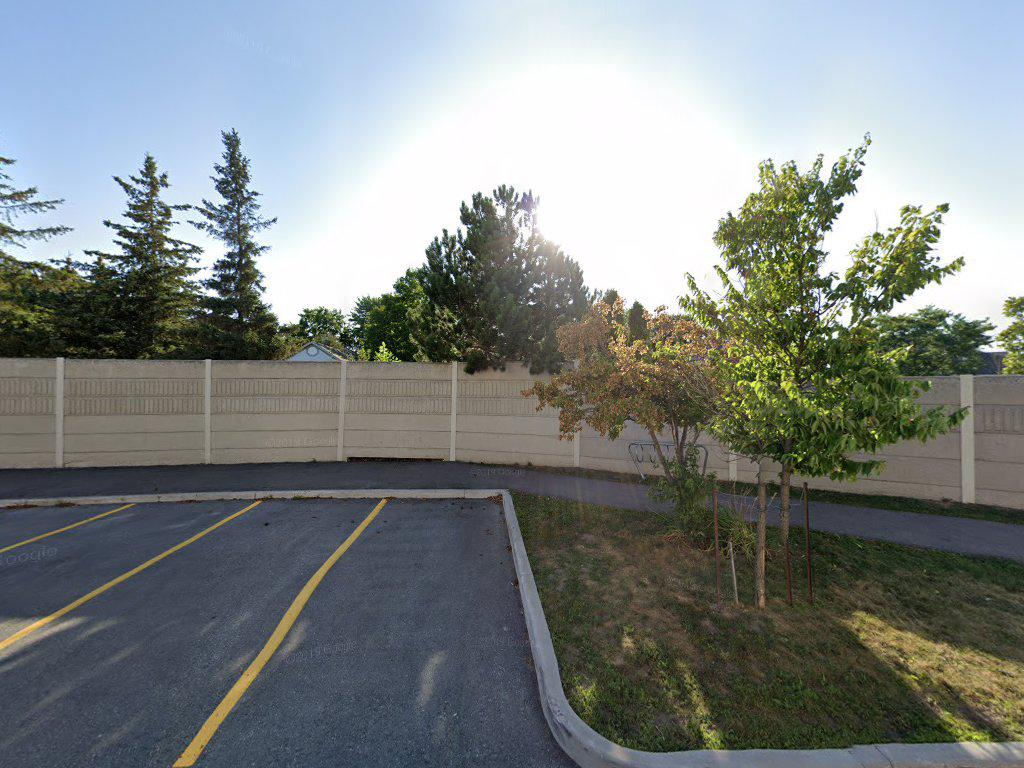trunk: (777, 454, 798, 553)
